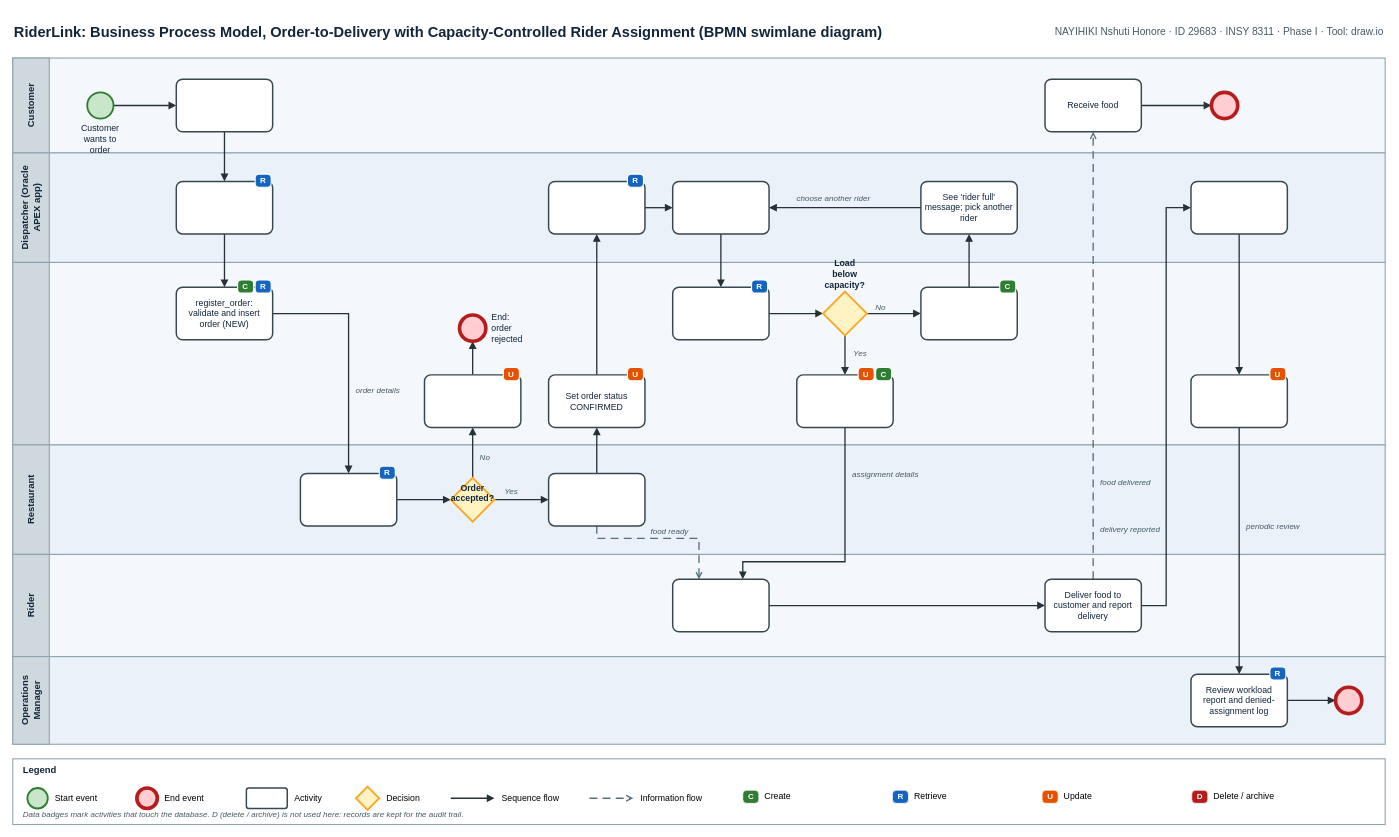
The diagram is 1399 pixels wide and 837 high, and some of its shapes have lost their labels. The shapes that lost their labels are listed below. From the top down, each one's centre as x and y in pixels, then its label:
point 224,105: Place order: choose restaurant, items and address
point 1224,105: End: order delivered
point 224,207: Enter order on APEX order-entry page
point 596,207: View pending orders and rider workload (dispatch board)
point 720,207: Select a rider and click Assign (assign_rider)
point 1239,207: Mark delivery complete (complete_delivery)
point 720,313: Read rider's vehicle capacity and active load
point 969,313: Trigger blocks assignment; log denied attempt
point 30,353: Oracle Database (PL/SQL)
point 472,401: Set order status REJECTED
point 845,401: Record assignment; set order ASSIGNED; log allowed
point 1239,401: Close assignment; set order DELIVERED
point 348,499: Receive order details and decide
point 596,499: Accept order and start preparing food
point 720,605: Receive assignment and collect food
point 1348,700: End: reviewed
